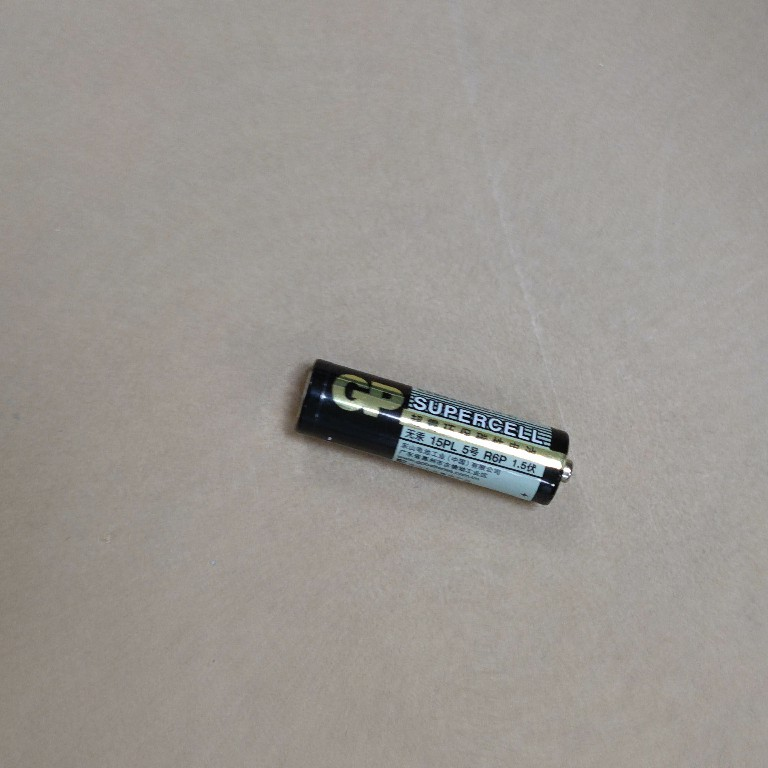charge: (290, 356, 577, 510)
